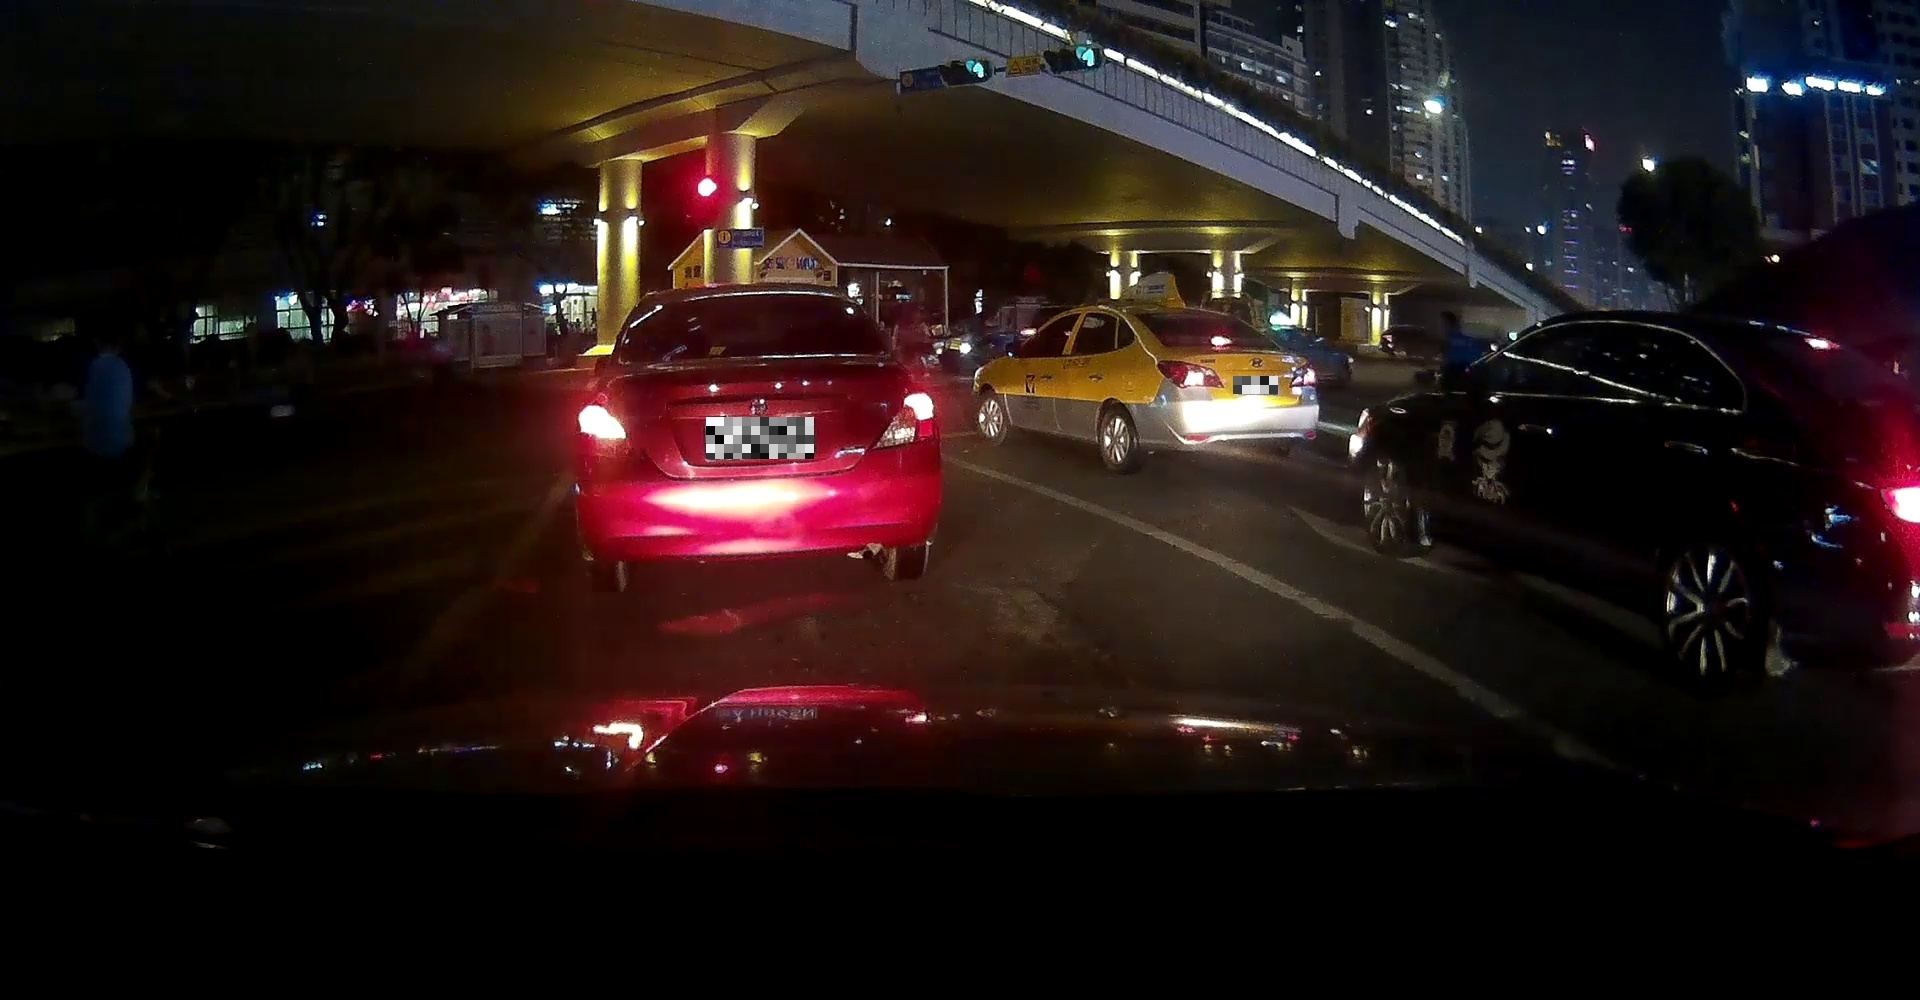L_light: (575, 393, 637, 461), (1156, 359, 1224, 390)
R_light: (869, 390, 936, 448), (1288, 360, 1319, 390)
T_light: (723, 291, 783, 297), (1210, 338, 1234, 348)
night-brake: (1123, 305, 1321, 466)
night-no: (571, 280, 941, 584)
plate_1: (706, 418, 814, 459)
plate_2: (1233, 376, 1277, 393)
